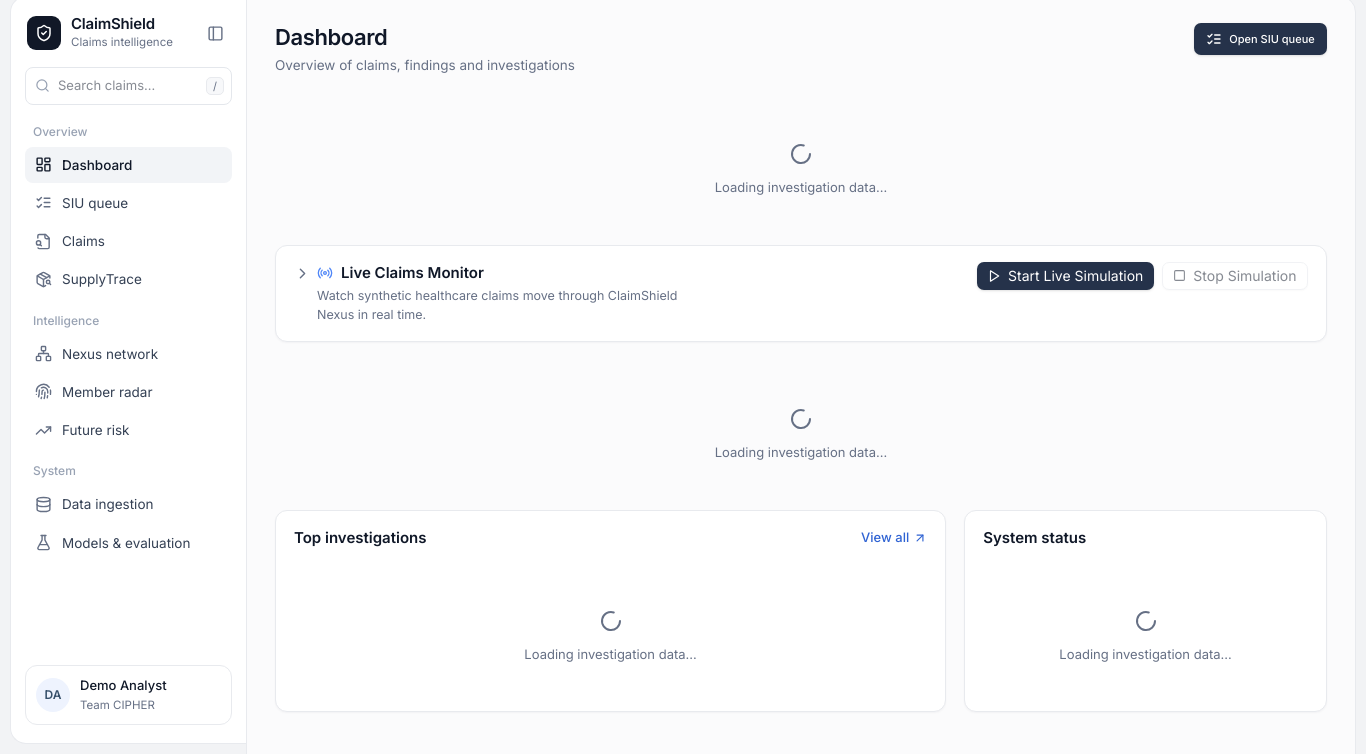
Live Claims Monitor › inspector shows pending and failed stages and no Fully analyzed badge until the backend reports it
The width and height of the screenshot is (1366, 754).
Click the button with aria-label "Show live monitor details" at (389,273), box [294,262,484,284]
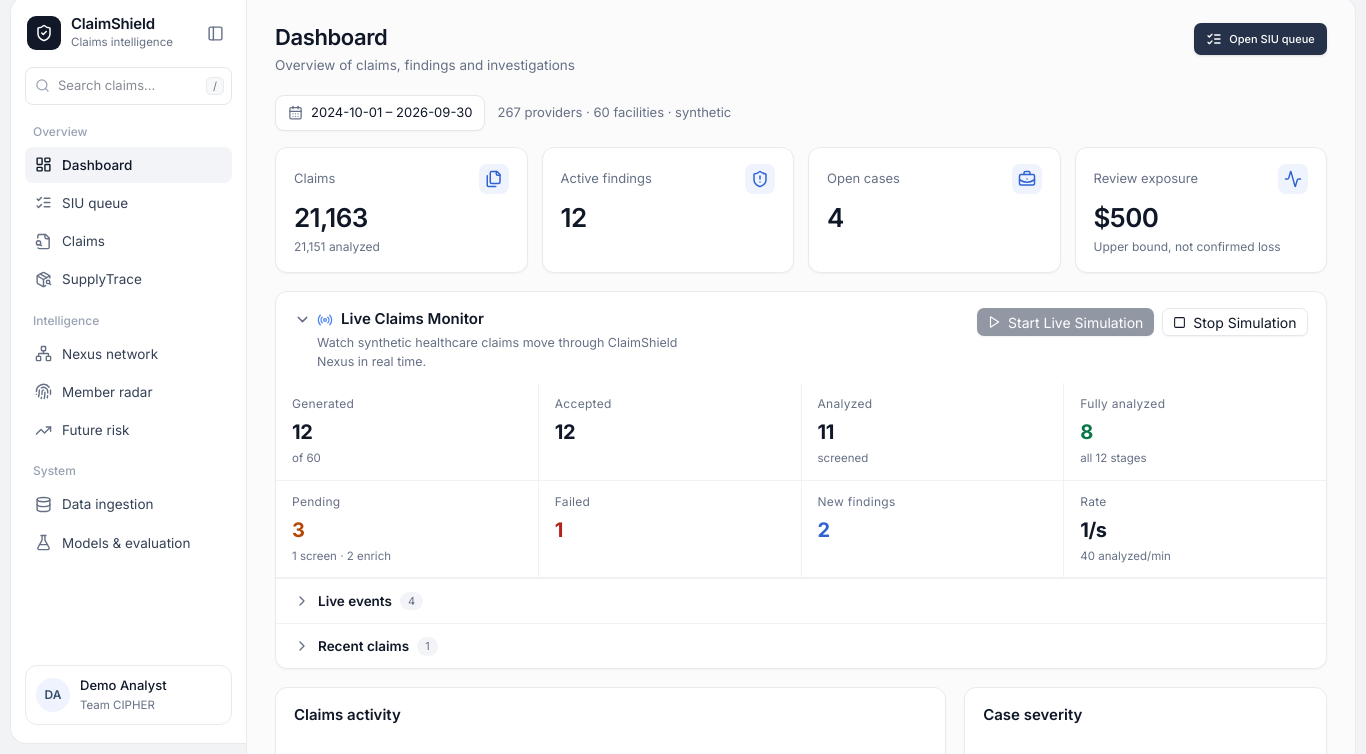
Click the button "Live events 4" at (355,601), box [276,579,1326,623]
(page scrolled)
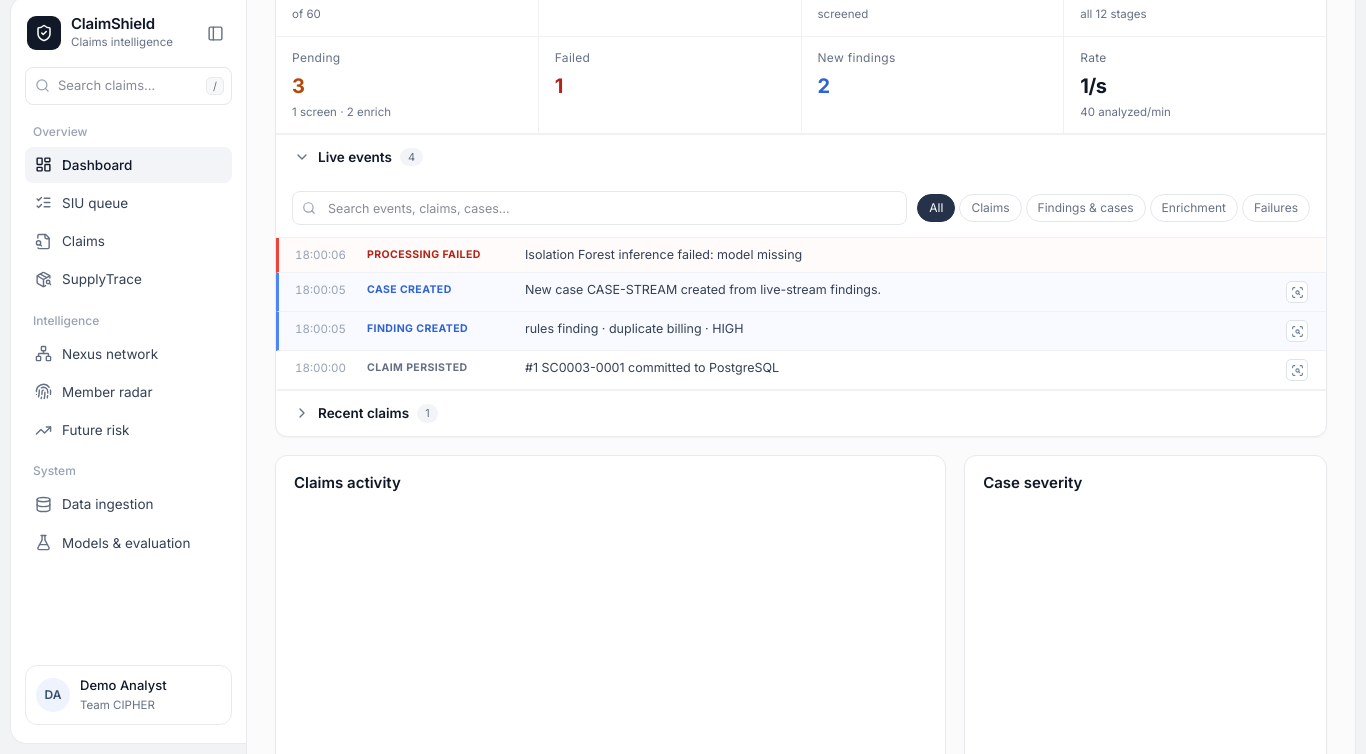
Click the button named "Inspect SC0003-0001" at (1297,370), box [1286,359,1308,381]
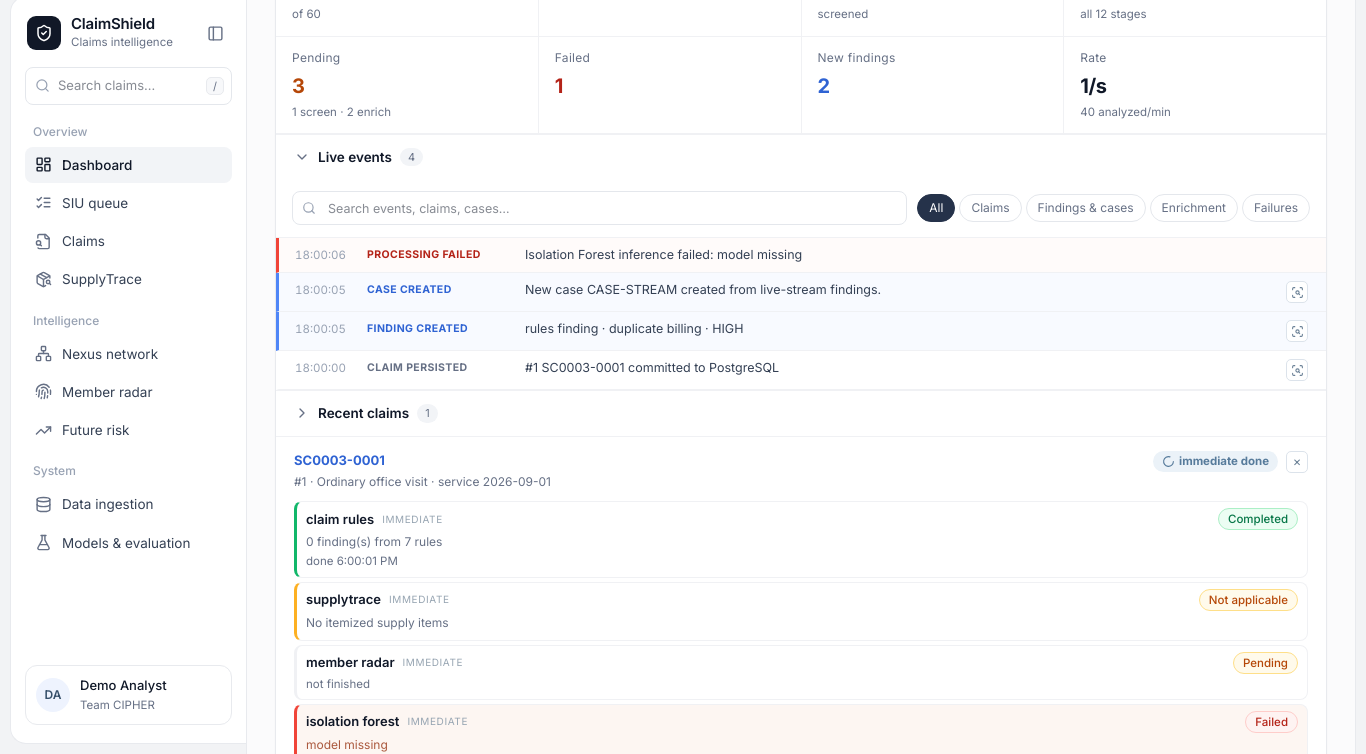
Expected: the text "Fully analyzed" is not shown
Expected: the text "model missing" is shown, [306,737,388,752]
Expected: the text "pending" is shown, [1233,652,1298,674]
